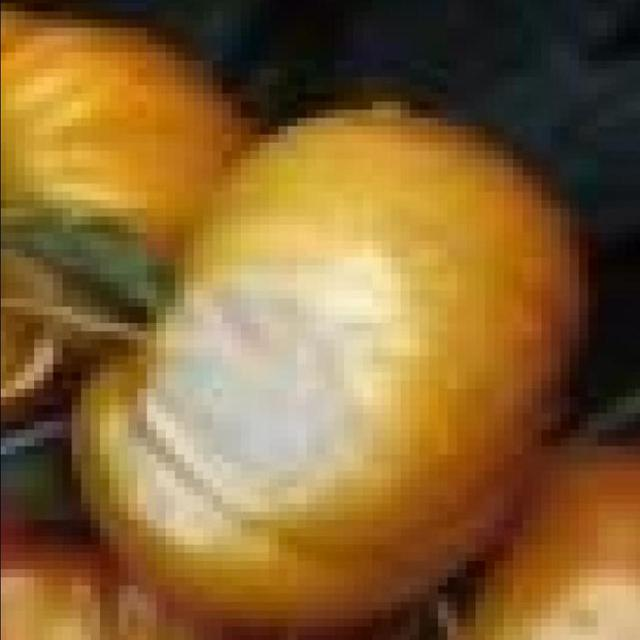Sunscald Fruit: (82, 166, 276, 363)
